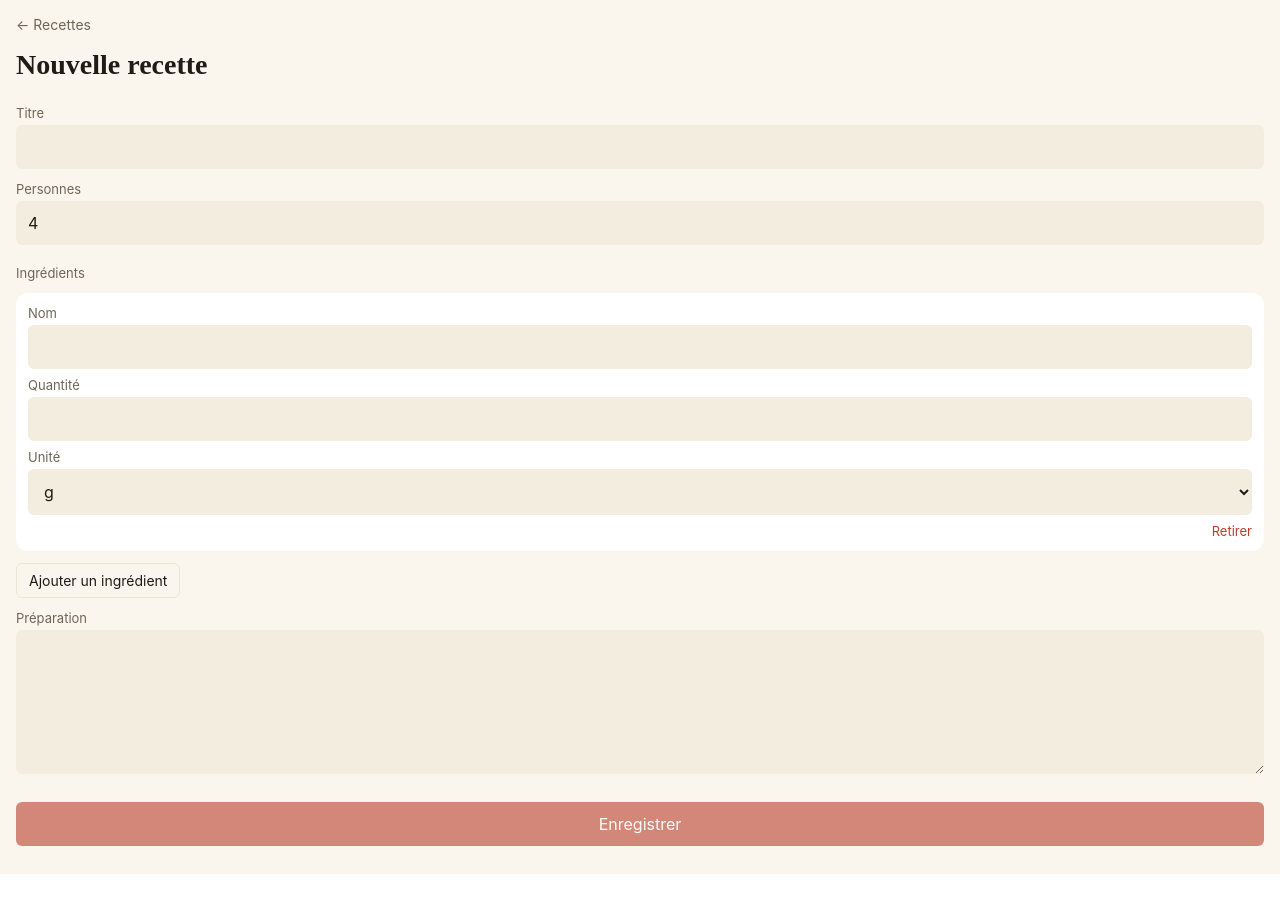
Test case: RecipeCreateContainer › « Ajouter un ingrédient » ajoute une seconde ligne
The image size is (1280, 900).
Check: the number of fields labelled "Nom" is 1, box [28,325,1252,369]
Click the button "Ajouter un ingrédient": (98, 580) [16,563,180,598]
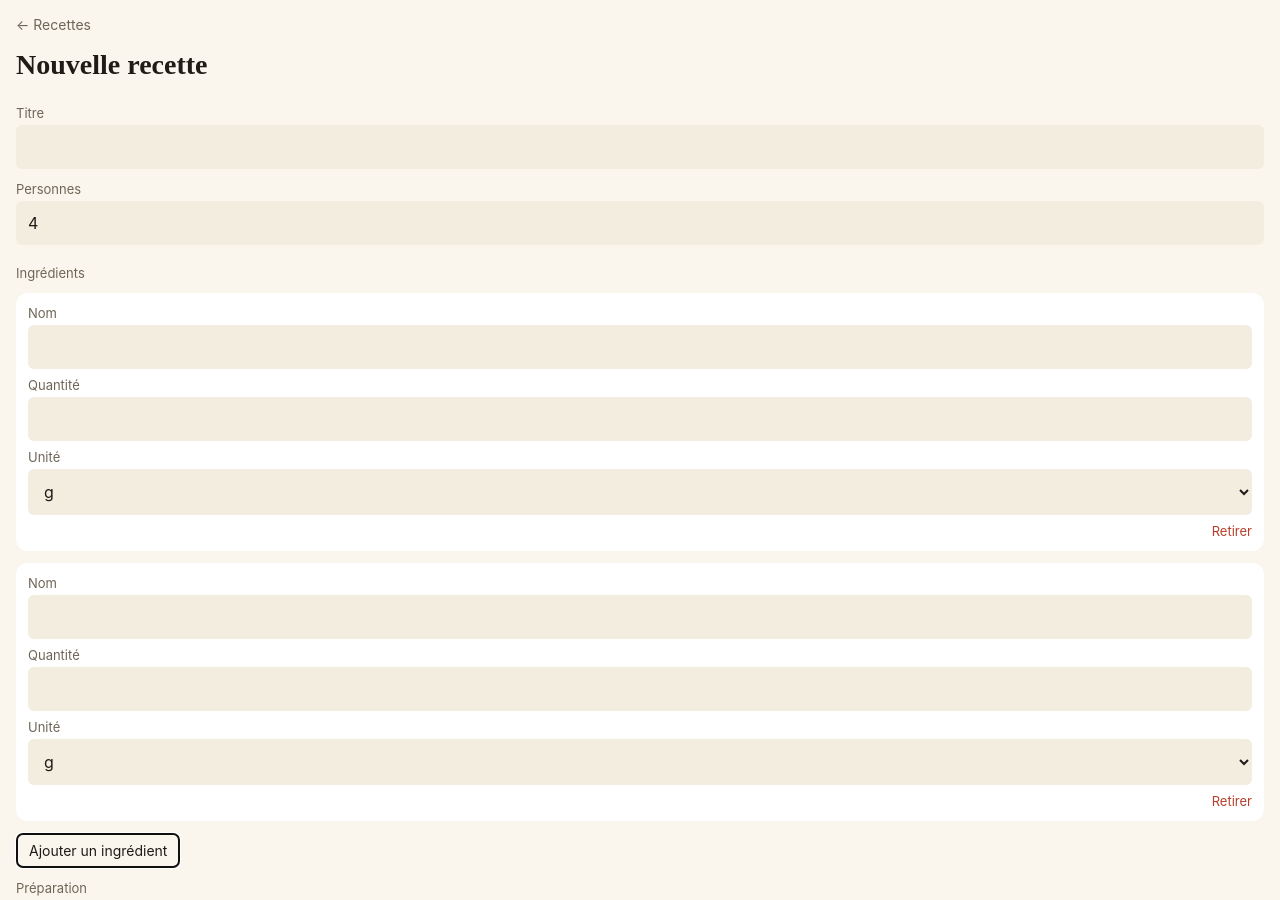
Check: the number of fields labelled "Nom" is 2, box [28,325,1252,369]; [28,595,1252,639]
